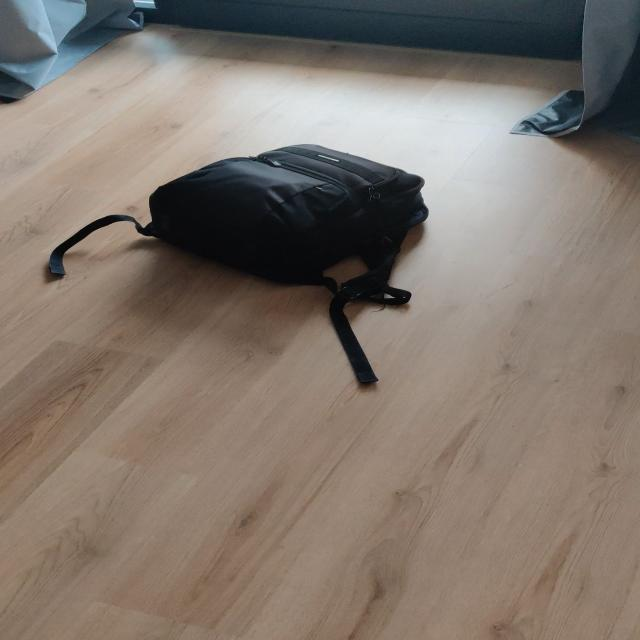backpack: (129, 140, 438, 290)
